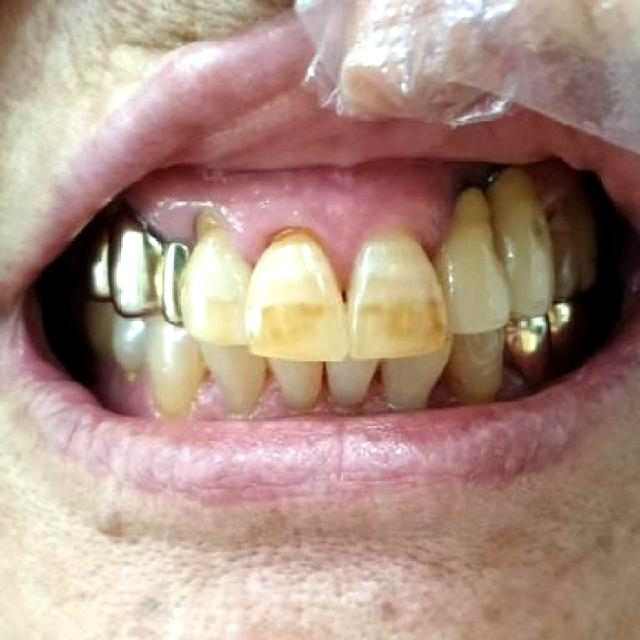Plaque: (533, 196, 575, 248), (472, 228, 508, 268)
